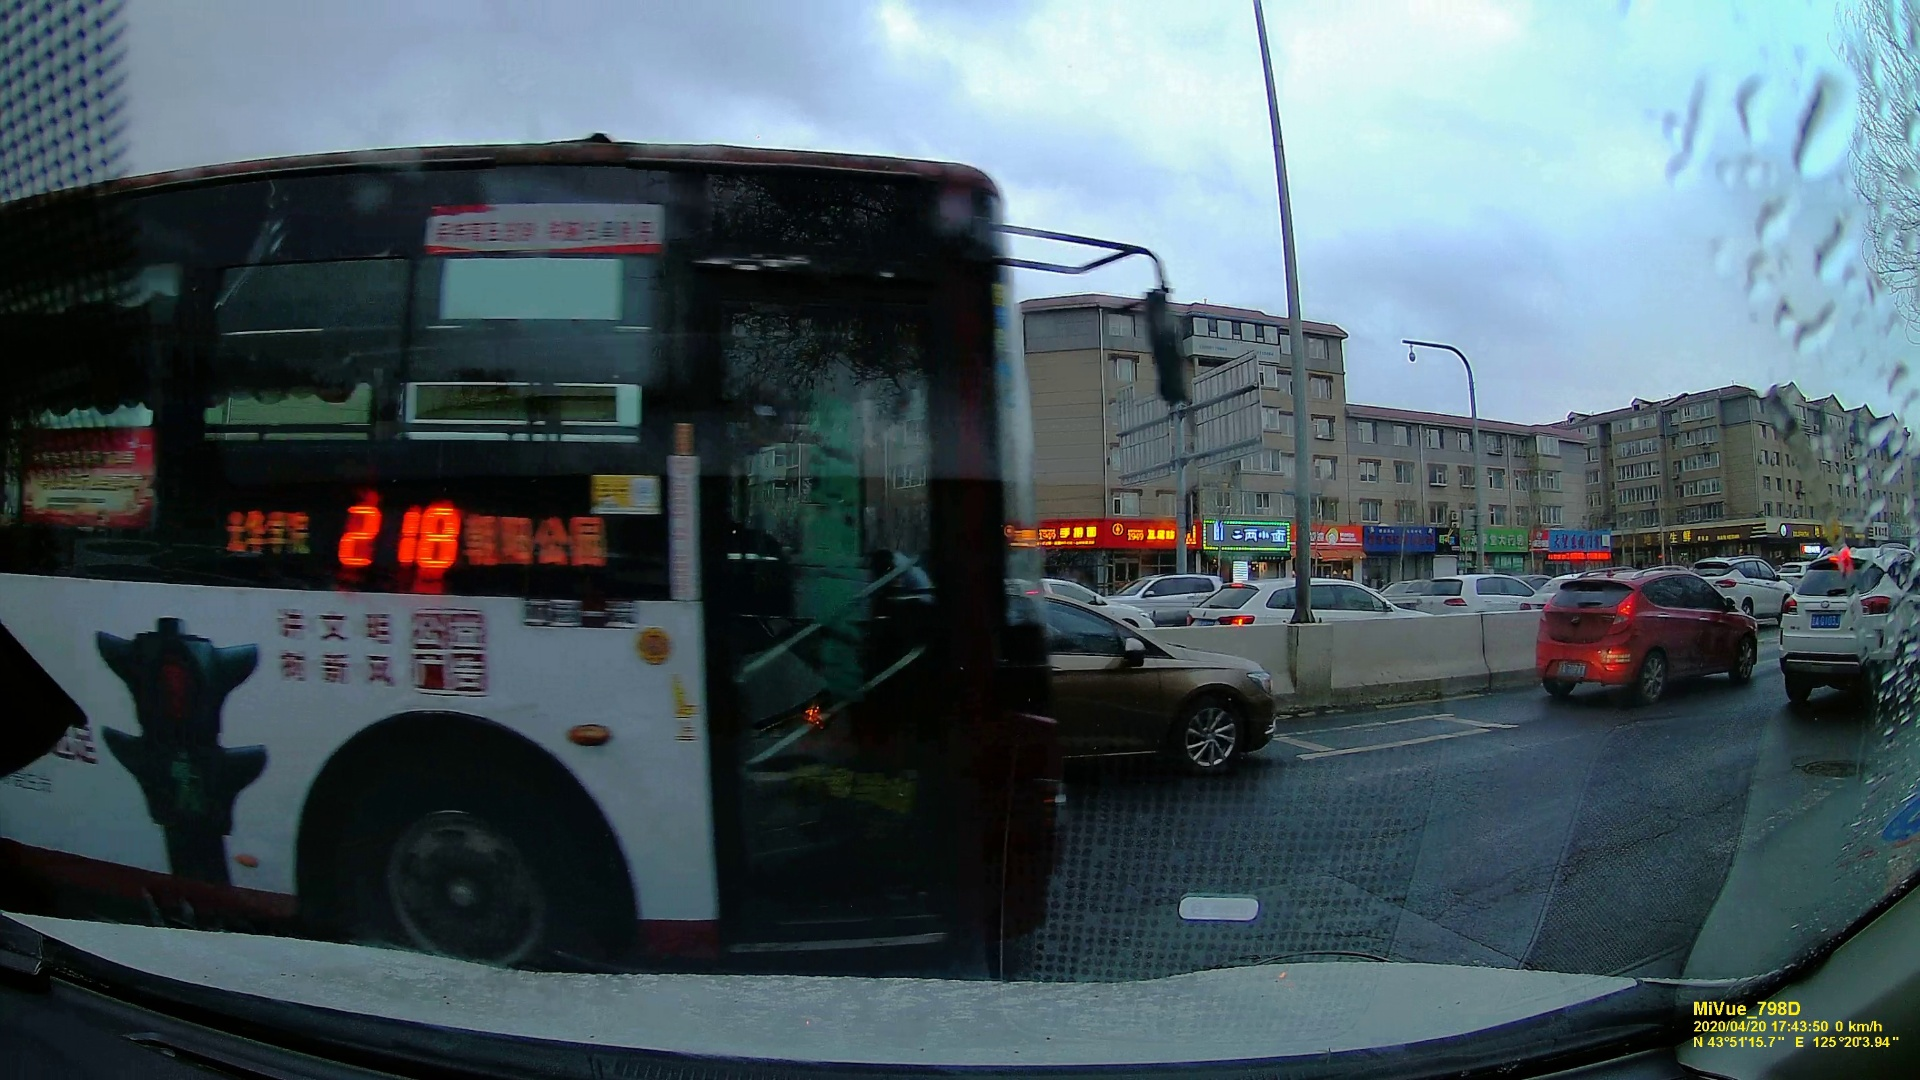bus: (1, 148, 1030, 942)
vehicle: (1039, 593, 1275, 769), (1538, 568, 1758, 698), (1782, 546, 1911, 704), (1188, 579, 1404, 625), (1109, 568, 1218, 613), (1416, 572, 1531, 615)
